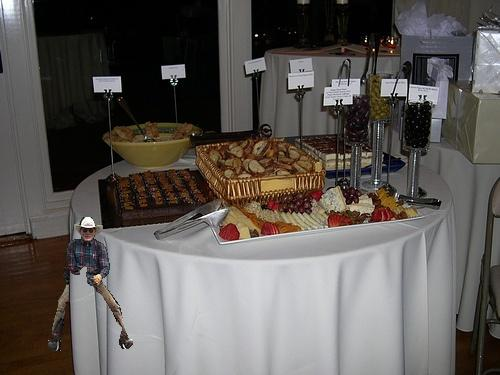tampered: (49, 218, 133, 351)
